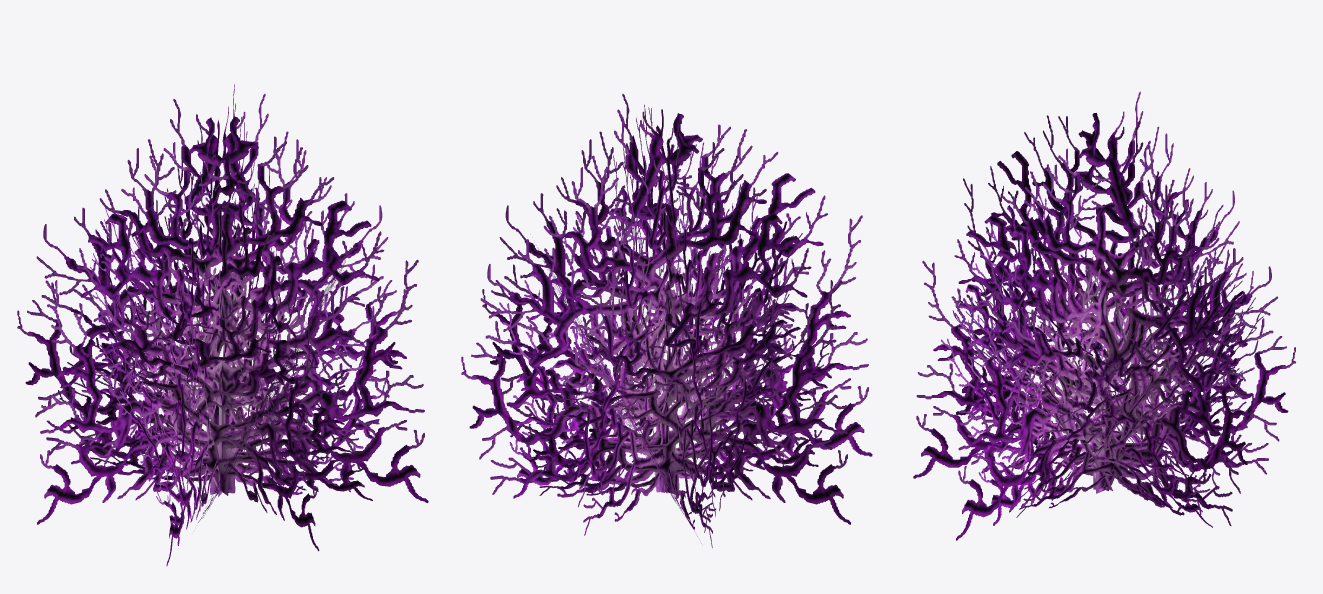
Rendered from INST_TROLLHOLE_FANPLANTA.fbx.
3 views of the same model, side by side, from view 1: azimuth 30°, elevation 25°; view 2: azimuth 150°, elevation 25°; view 3: azimuth 270°, elevation 25° (orthographic).
Visible parts, largest first — view 1: INST_TROLLHOLE_FANPLANTA; view 2: INST_TROLLHOLE_FANPLANTA; view 3: INST_TROLLHOLE_FANPLANTA.
Boxes of the visible parts, box(x1,y1,x2,y2) form: INST_TROLLHOLE_FANPLANTA: box(17, 84, 428, 566); INST_TROLLHOLE_FANPLANTA: box(461, 94, 872, 547); INST_TROLLHOLE_FANPLANTA: box(913, 91, 1295, 540).
Bounding box in the file's own units: 18229 × 18229 × 17415.
Materials: 1 (1 with a texture image).
